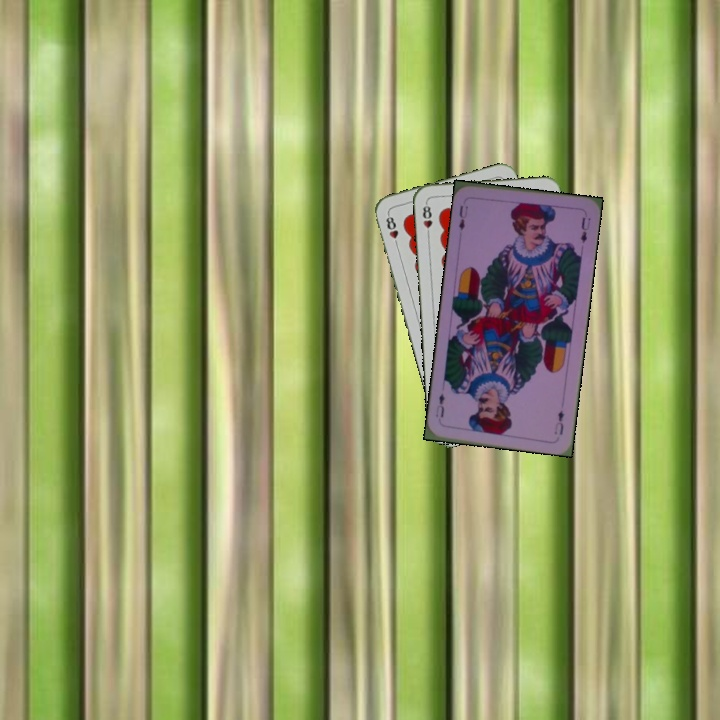EU: (550, 406, 567, 438), (455, 201, 470, 234)
H8: (382, 210, 401, 250), (418, 199, 435, 239)
